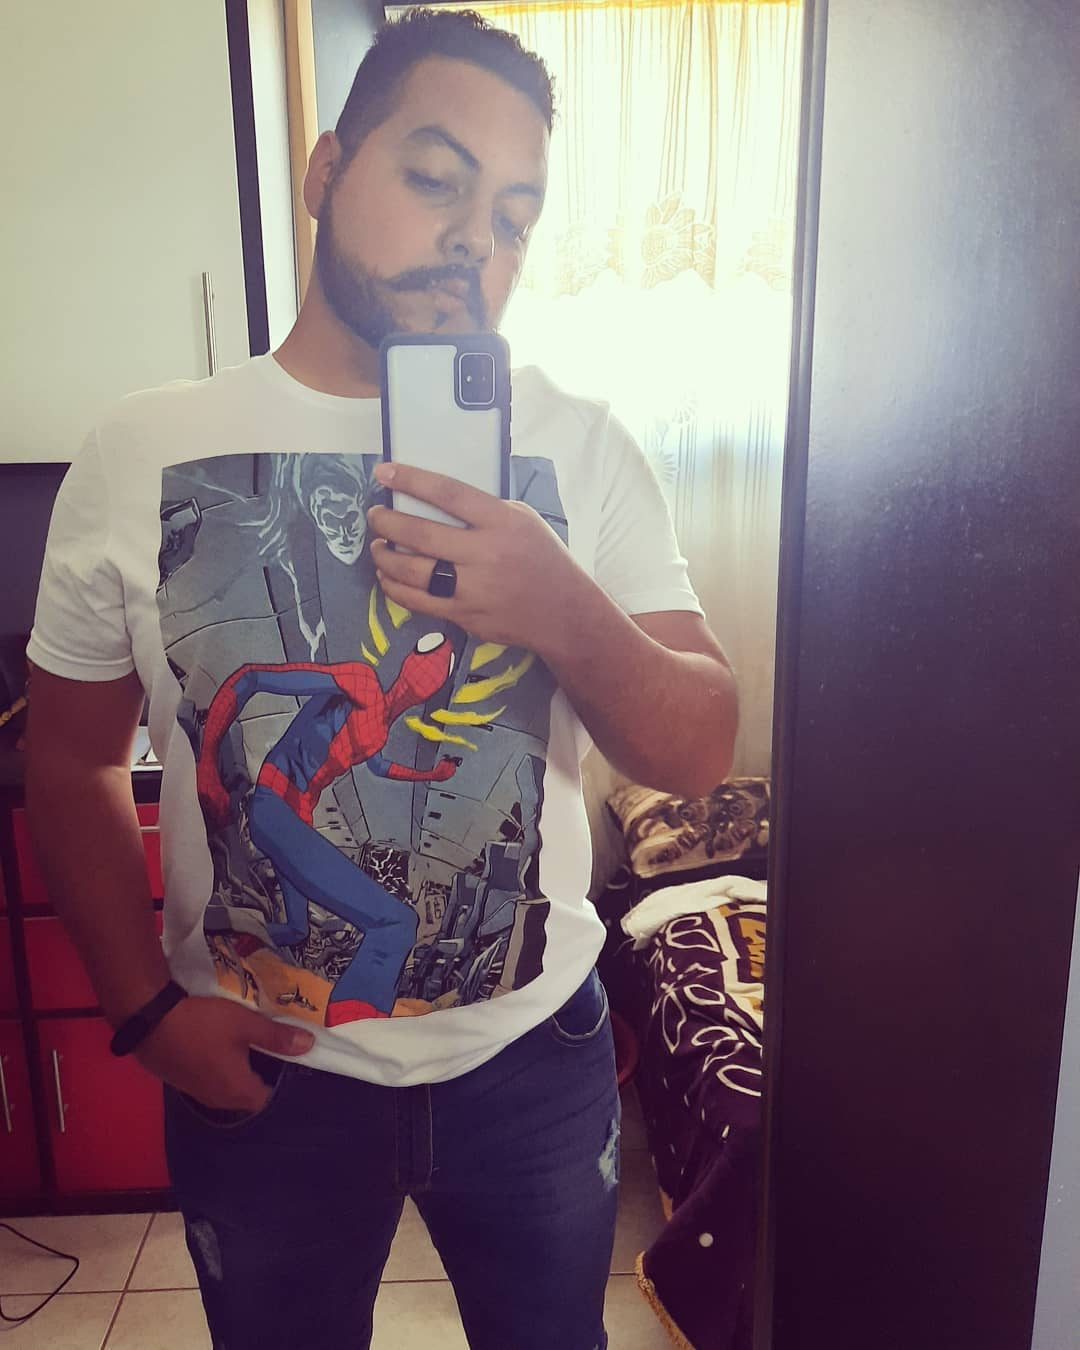Yoshi: (32, 15, 738, 1046)
